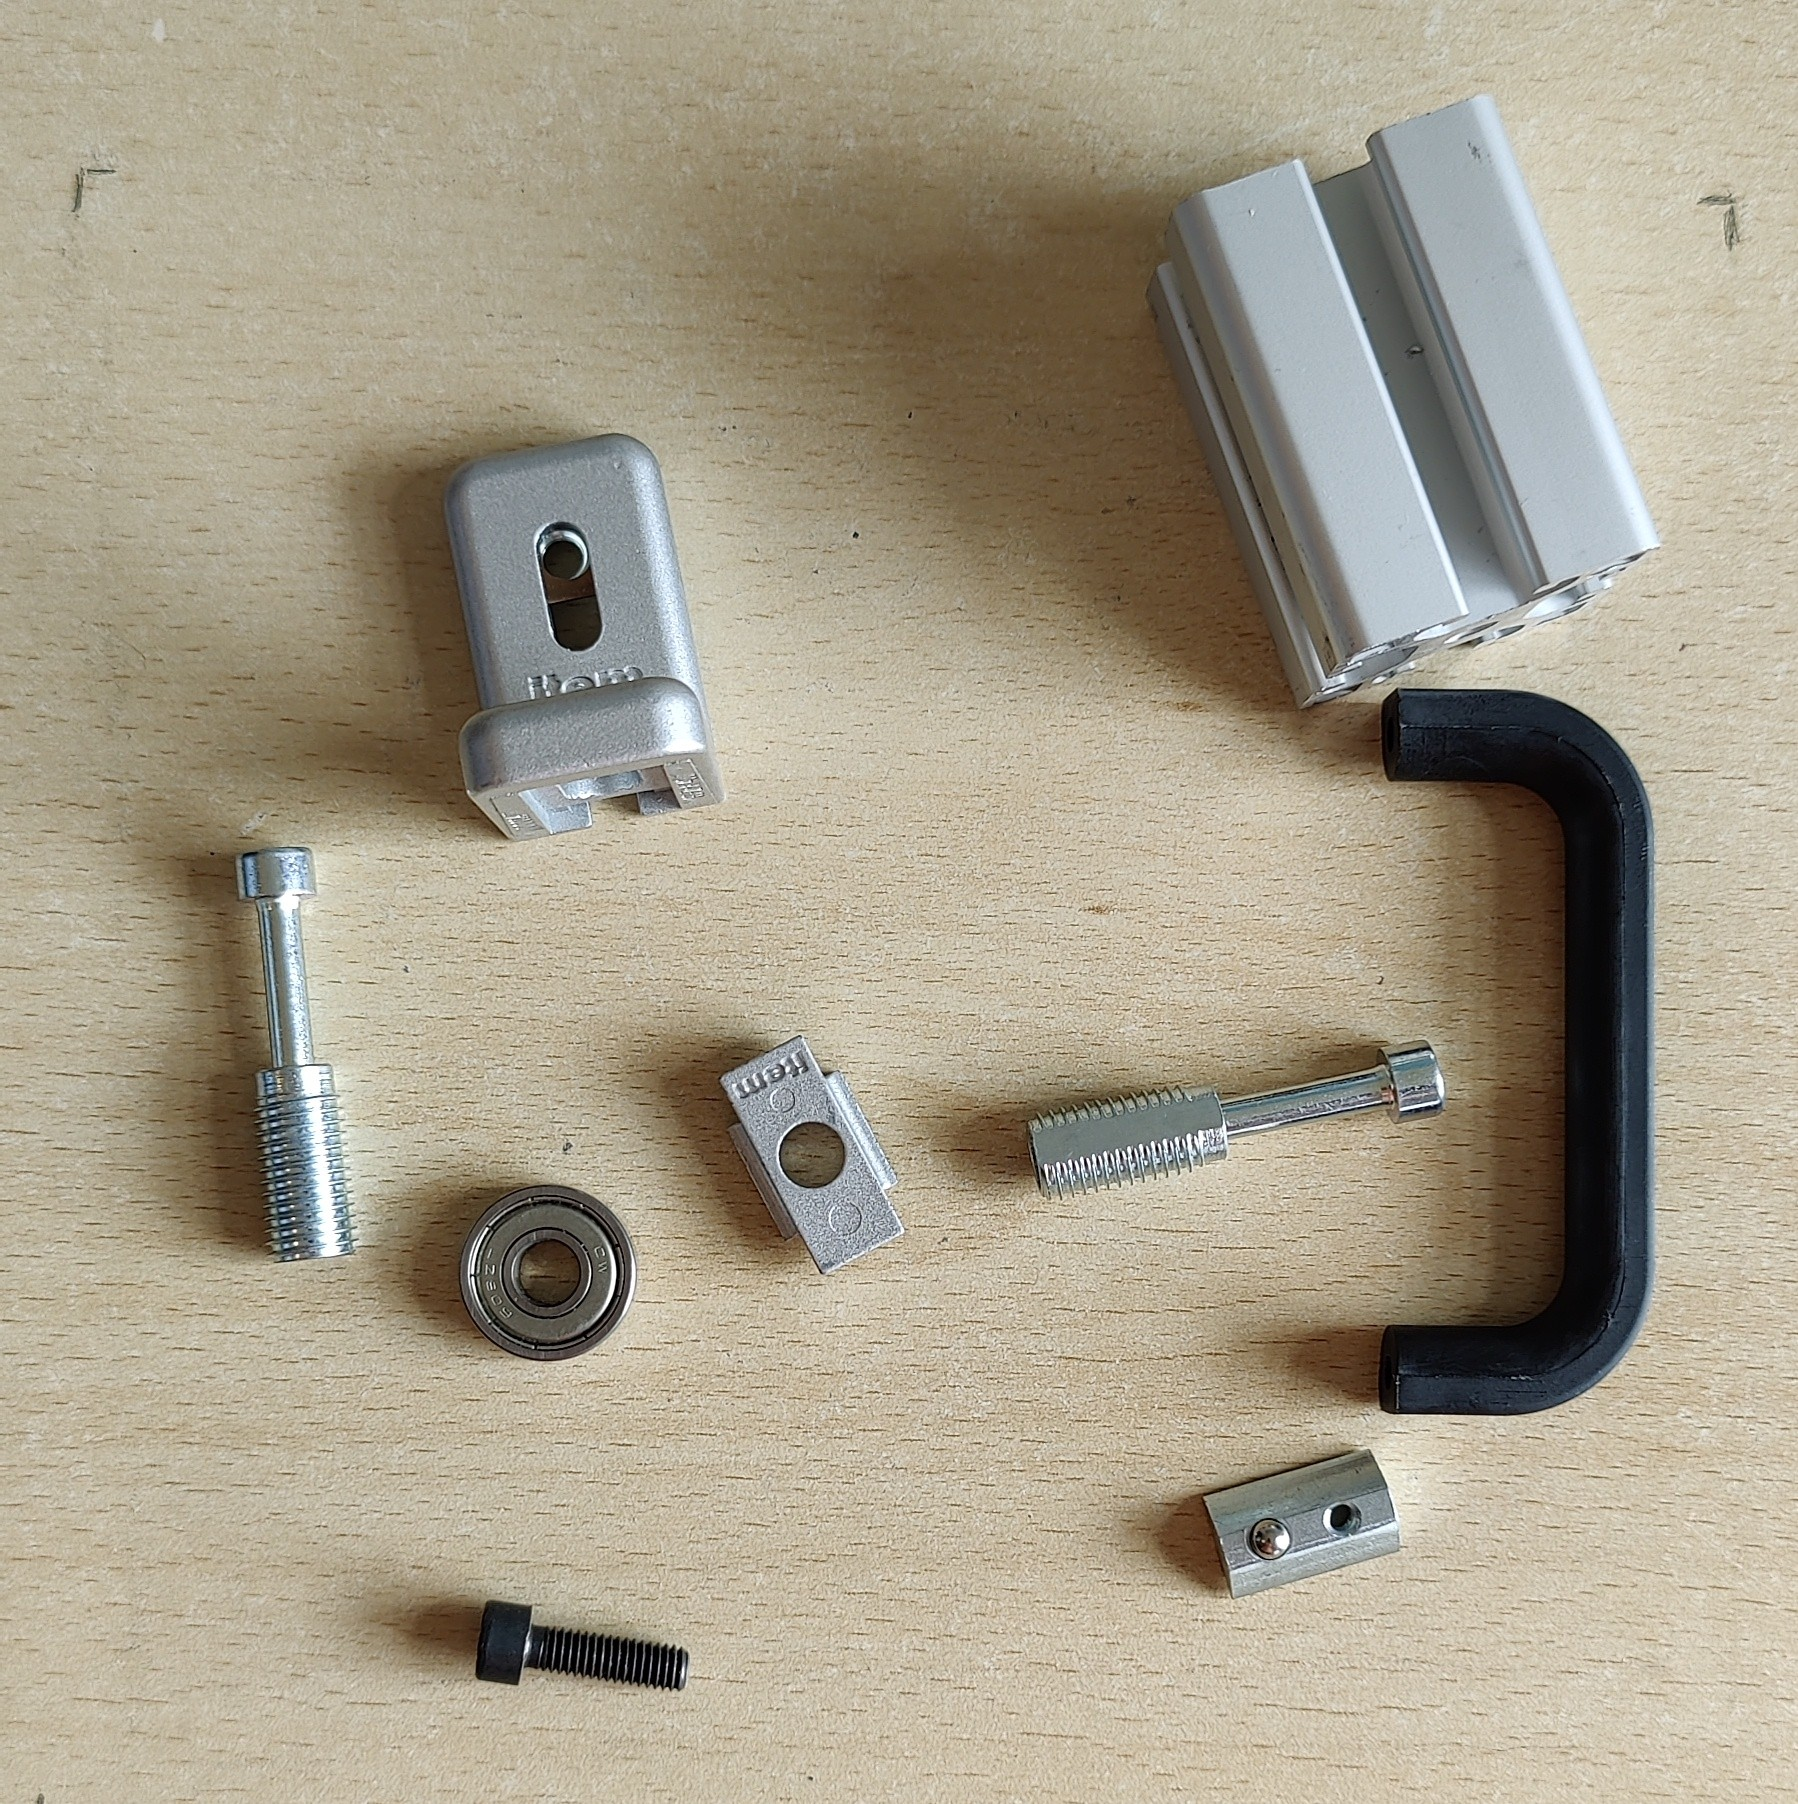Aluminium Extension: (1144, 89, 1666, 714)
Ball Bearing: (454, 1185, 640, 1365)
Multiwinkel: (441, 430, 729, 844)
Pull Handle: (1376, 685, 1658, 1419)
Shoulder Socket Head Cap Screw: (1022, 1035, 1451, 1205), (231, 844, 361, 1267)
Socket Head Cap Screw: (469, 1597, 692, 1694)
T Nut Square: (715, 1030, 911, 1277)
T Spring Nut: (1199, 1448, 1404, 1603)
